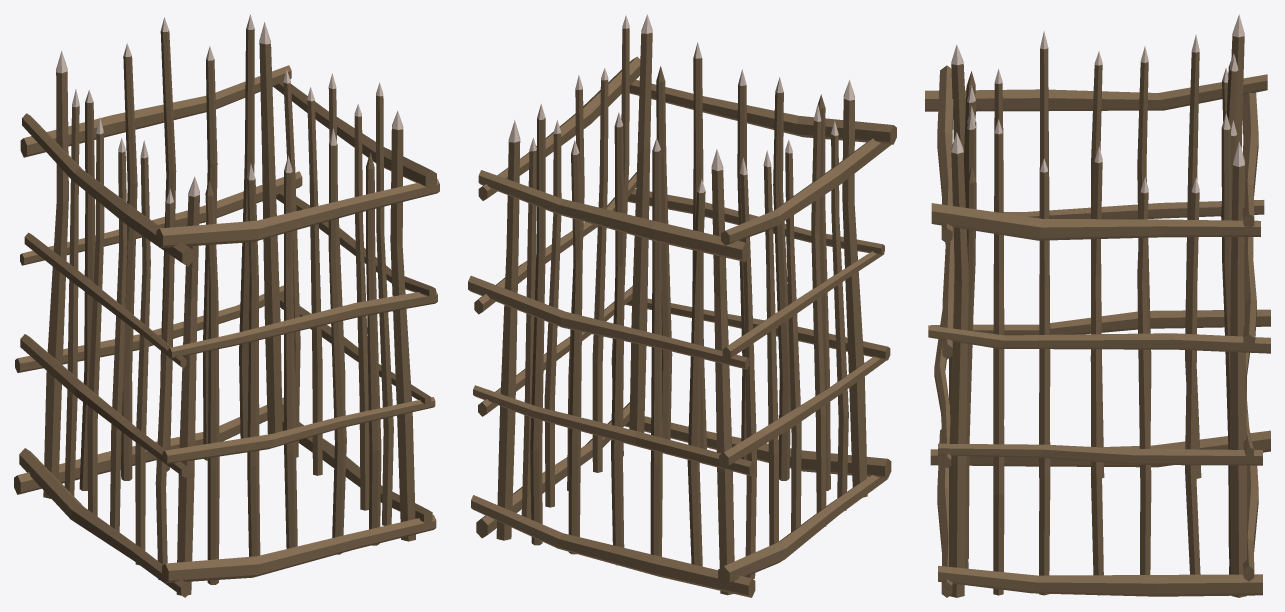
File: branch_cage.glb
3 views of the same model, side by side, from view 1: azimuth 30°, elevation 25°; view 2: azimuth 150°, elevation 25°; view 3: azimuth 270°, elevation 25° (orthographic). The views are drawn at different scales.
Parts seen in each view (by area): view 1: branch_cage; view 2: branch_cage; view 3: branch_cage.
Part boxes in pixels (box(x1,y1,x2,y2)): branch_cage: box(14, 14, 439, 597); branch_cage: box(468, 14, 896, 597); branch_cage: box(925, 14, 1270, 597).
Size of the model in its own units: 1.15 by 1.76 by 1.15.
1 material, 1 textured.
